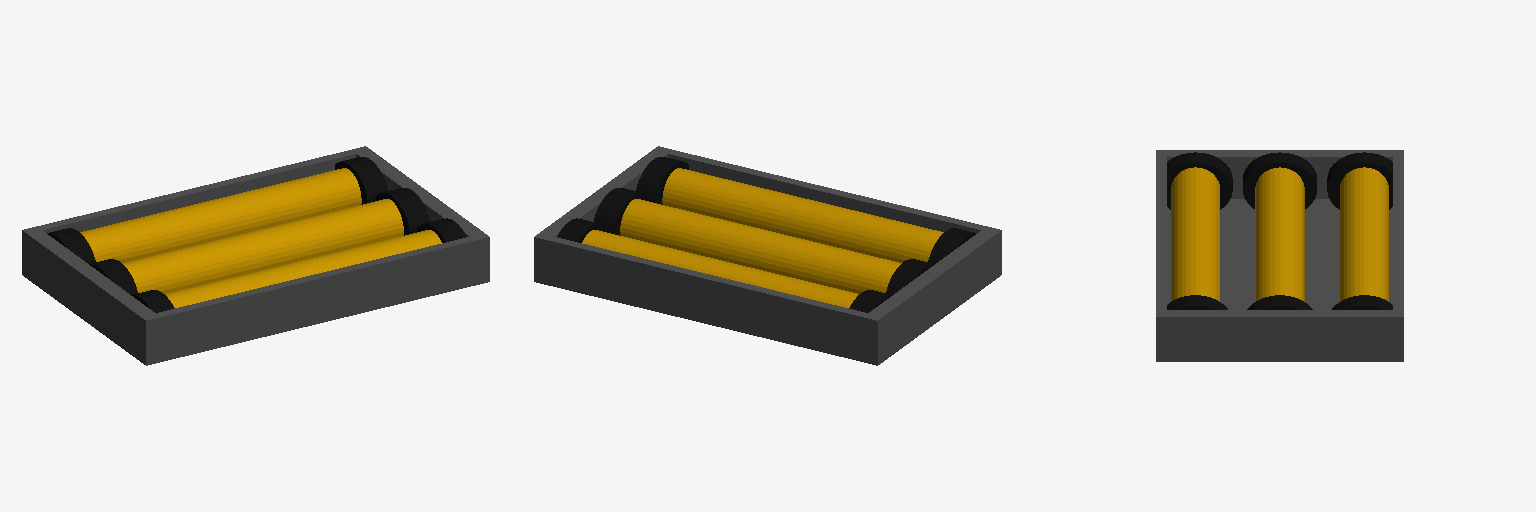
The model's file is ceiling_light.obj.
3 views of the same model, side by side, from view 1: azimuth 30°, elevation 25°; view 2: azimuth 150°, elevation 25°; view 3: azimuth 270°, elevation 25° (orthographic).
Visible parts, largest first — view 1: Cube, Cylinder.001, Cylinder, Cylinder.002, Cylinder.004, Cylinder.005, Cylinder.007, Cylinder.003, Cylinder.008, Cylinder.006; view 2: Cube, Cylinder.001, Cylinder.002, Cylinder, Cylinder.004, Cylinder.008, Cylinder.006, Cylinder.003, Cylinder.005, Cylinder.007; view 3: Cube, Cylinder.001, Cylinder, Cylinder.002, Cylinder.003, Cylinder.006, Cylinder.007, Cylinder.004, Cylinder.005, Cylinder.008.
Boxes of the visible parts, box(x1,y1,x2,y2) form: Cube: box(22, 146, 489, 365); Cylinder.001: box(122, 199, 403, 293); Cylinder: box(80, 168, 361, 262); Cylinder.002: box(165, 230, 441, 307); Cylinder.004: box(374, 188, 429, 235); Cylinder.005: box(335, 157, 387, 204); Cylinder.007: box(47, 228, 95, 263); Cylinder.003: box(89, 259, 137, 294); Cylinder.008: box(416, 218, 466, 242); Cylinder.006: box(131, 290, 174, 312); Cube: box(534, 146, 1001, 365); Cylinder.001: box(620, 199, 901, 293); Cylinder.002: box(662, 168, 943, 262); Cylinder: box(582, 230, 858, 307); Cylinder.004: box(594, 188, 649, 235); Cylinder.008: box(636, 157, 688, 204); Cylinder.006: box(928, 228, 976, 263); Cylinder.003: box(886, 259, 934, 294); Cylinder.005: box(557, 218, 607, 242); Cylinder.007: box(849, 290, 892, 312); Cube: box(1156, 150, 1403, 361); Cylinder.001: box(1255, 167, 1304, 301); Cylinder: box(1340, 167, 1388, 301); Cylinder.002: box(1171, 167, 1219, 301); Cylinder.003: box(1243, 152, 1316, 208); Cylinder.006: box(1167, 152, 1232, 209); Cylinder.007: box(1327, 152, 1392, 209); Cylinder.004: box(1247, 295, 1312, 309); Cylinder.005: box(1332, 295, 1392, 309); Cylinder.008: box(1167, 295, 1227, 309).
Bounding box in the file's own units: 1.6 × 0.24 × 1.